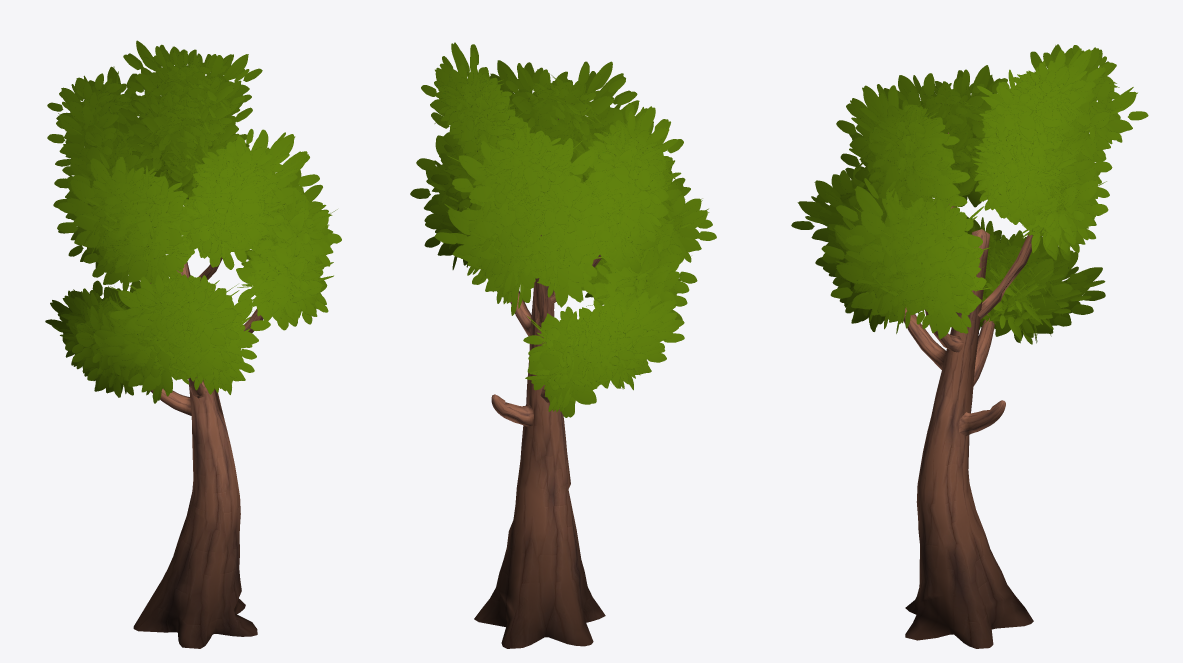
Rendered from nature-commontree-5.glb.
3 renders of one model, left to right at view 1: azimuth 30°, elevation 25°; view 2: azimuth 150°, elevation 25°; view 3: azimuth 270°, elevation 25°, orthographic. The views are drawn at different scales.
Parts seen in each view (by area): view 1: CommonTree_5; view 2: CommonTree_5; view 3: CommonTree_5.
Boxes of the visible parts, box(x1,y1,x2,y2) form: CommonTree_5: box(45, 40, 341, 648); CommonTree_5: box(410, 42, 716, 648); CommonTree_5: box(791, 44, 1148, 648).
Bounding box in the file's own units: 3.67 × 7.01 × 4.22.
2 materials, 2 textured.
